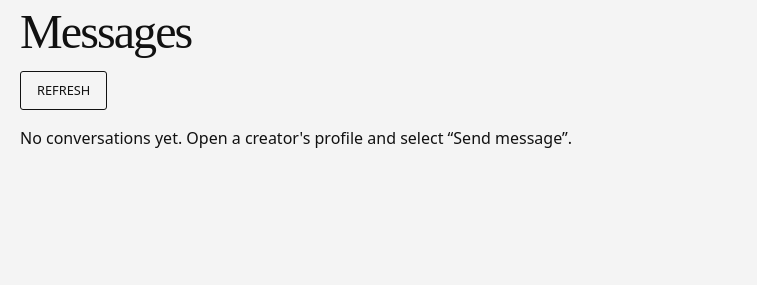
conversation list › loads the conversations again when Refresh is clicked
This screenshot has width=757, height=285.
Expected: the text "No conversations yet" is shown, x1=20 y1=127 x2=572 y2=149
Click the button "Refresh": (64, 90) x1=20 y1=71 x2=107 y2=110
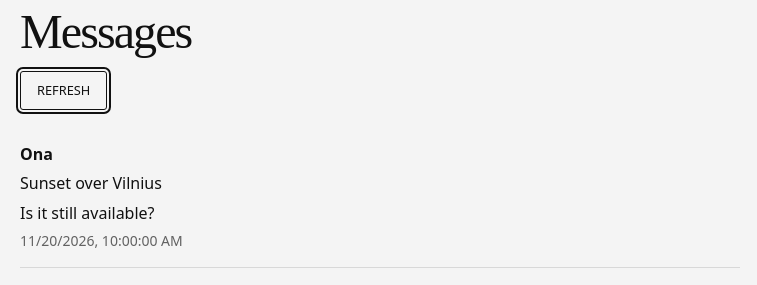
Expected: the link "Ona" is shown, x1=20 y1=143 x2=183 y2=250
